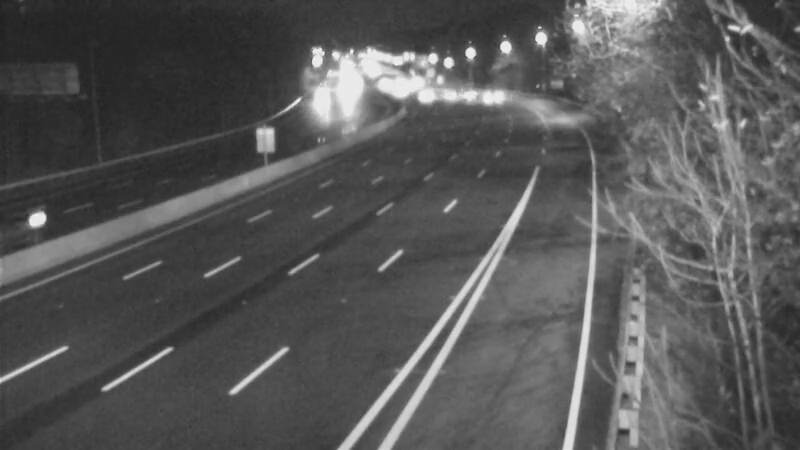vehicle: (1, 180, 73, 260), (436, 65, 486, 115), (420, 72, 470, 122), (462, 65, 512, 115)
